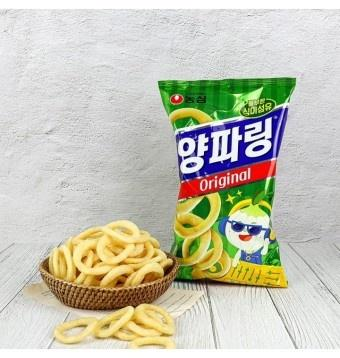snack: (157, 78, 297, 287)
